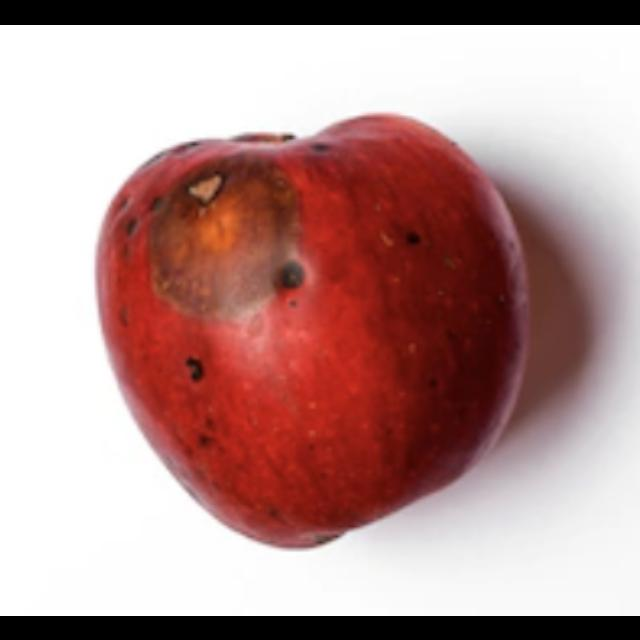Apel Tidak Segar: (93, 110, 534, 547)
